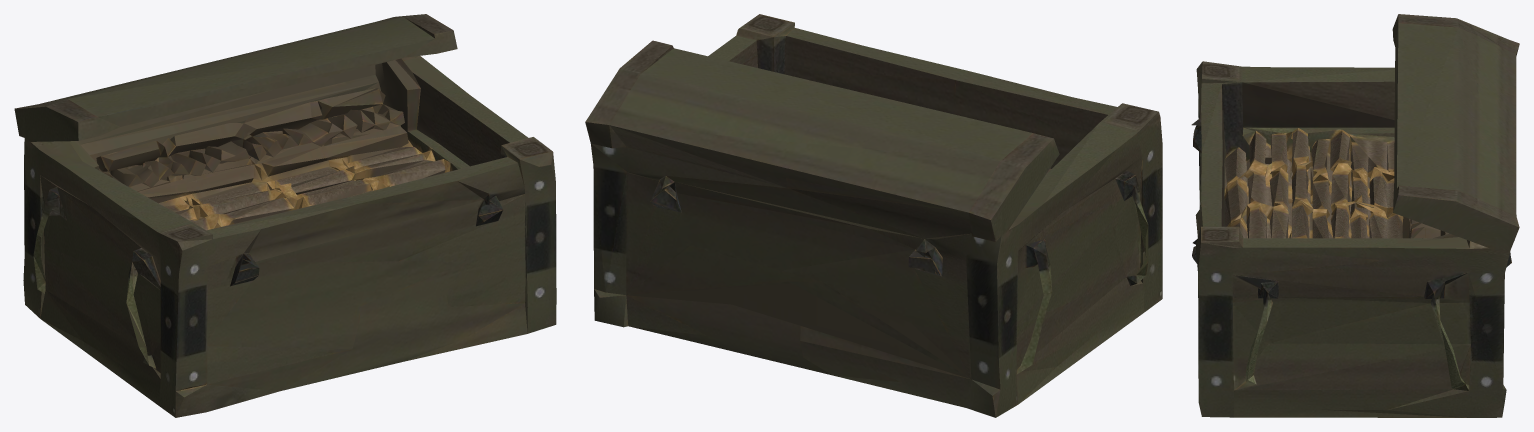
File: ammo_crate_plain.glb
The picture shows the model from 3 angles, left to right: view 1: azimuth 30°, elevation 25°; view 2: azimuth 150°, elevation 25°; view 3: azimuth 270°, elevation 25°; orthographic projection. The views are drawn at different scales.
Size of the model in its own units: 1.9 by 0.9794 by 1.31.
Materials: 1 (1 with a texture image).
